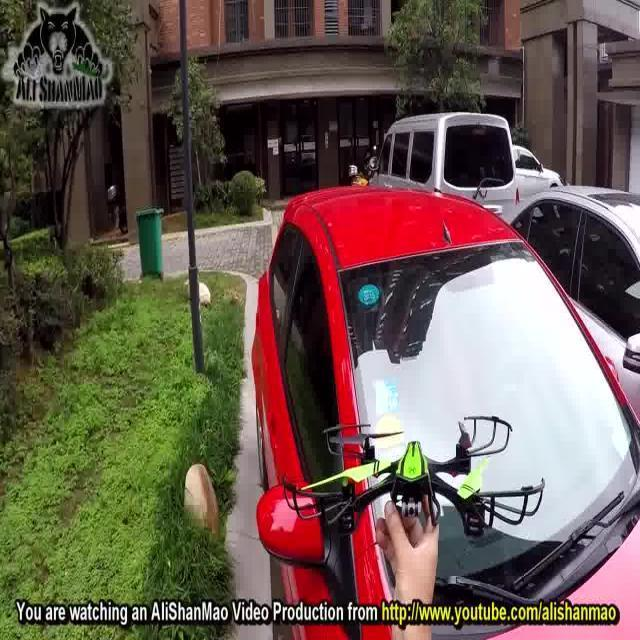drone: (280, 412, 546, 542)
